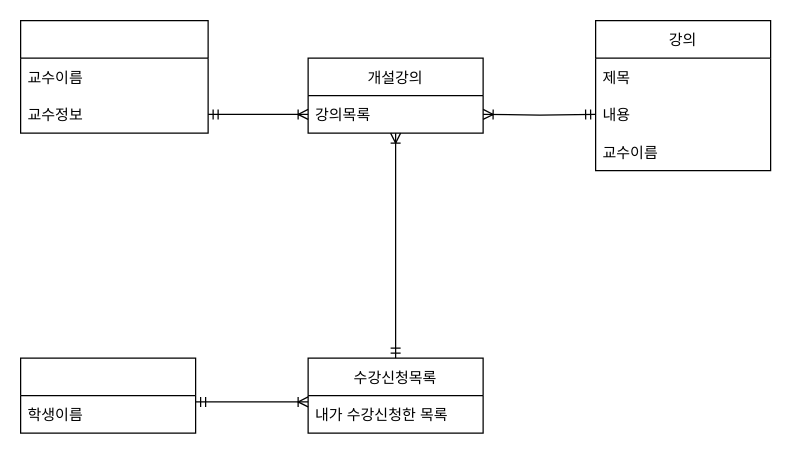
The diagram is 791 pixels wide and 454 high, and some of its shapes have lost their labels. Each missing label, with the box of its shape:
교수: (19, 19, 208, 133)
학생: (19, 357, 196, 433)
